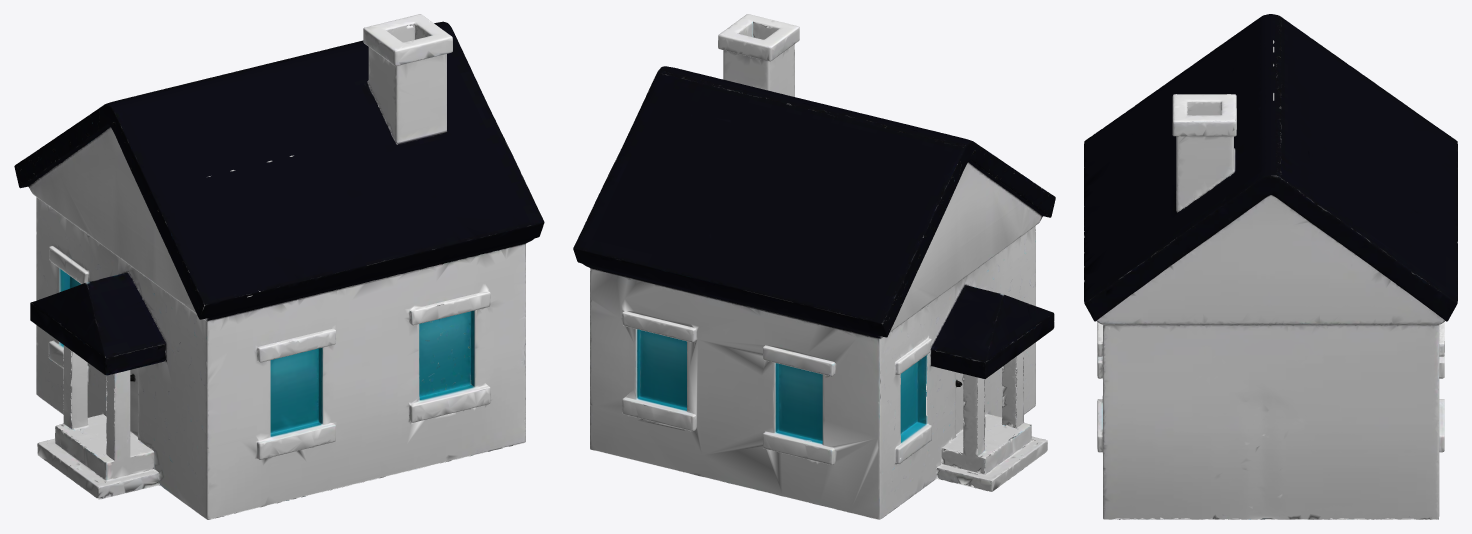
File: colonial_house.glb
3 renders of one model, left to right at view 1: azimuth 30°, elevation 25°; view 2: azimuth 150°, elevation 25°; view 3: azimuth 270°, elevation 25°, orthographic. The views are drawn at different scales.
Visible parts, largest first — view 1: geometry_0; view 2: geometry_0; view 3: geometry_0.
Part boxes in pixels (box(x1,y1,x2,y2)): geometry_0: box(14, 14, 544, 519); geometry_0: box(573, 14, 1055, 519); geometry_0: box(1084, 14, 1457, 519).
Bounding box in the file's own units: 10 × 9.57 × 8.5.
Materials: 1 (1 with a texture image).
